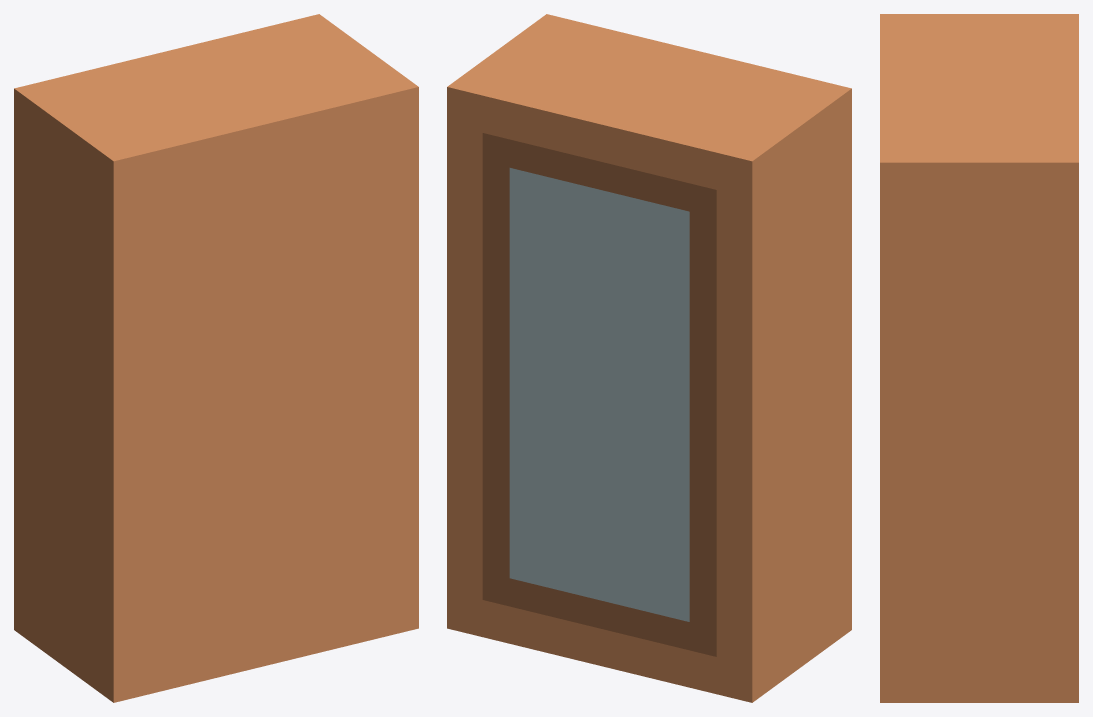
Rendered from Furniture_Cabinet_Bathroom.fbx.
3 renders of one model, left to right at view 1: azimuth 30°, elevation 25°; view 2: azimuth 150°, elevation 25°; view 3: azimuth 270°, elevation 25°, orthographic.
Visible parts, largest first — view 1: bathroomCabinet; view 2: bathroomCabinet, door; view 3: bathroomCabinet.
Part boxes in pixels (x1=…): bathroomCabinet: x1=14, y1=14, x2=418, y2=702; bathroomCabinet: x1=447, y1=14, x2=851, y2=702; door: x1=482, y1=133, x2=716, y2=656; bathroomCabinet: x1=880, y1=14, x2=1078, y2=702.
Size of the model in its own units: 2.3 by 3.9 by 1.3.
